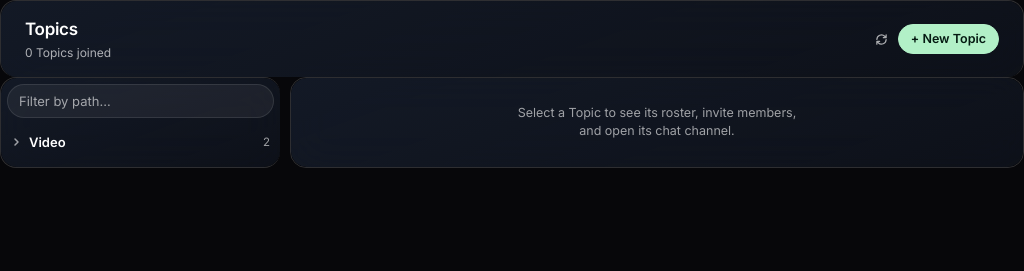
Test case: QURATOR-143 W1 (W2 sidebar form) — the lazy ranker is bounded and round-robin › the returned counts re-order the rows most-popular-first, without ever displaying a count in the list
Click the button with class "root-header": point(47, 142) [7,124,274,161]
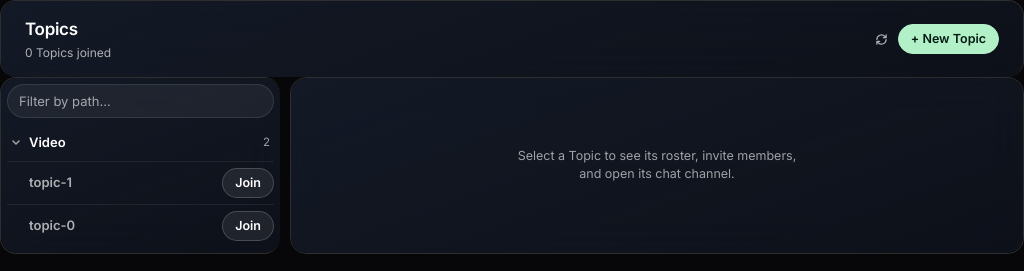
Check: the text "topic-1" is shown, box [29,174,72,190]
Check: the text "topic-0" is shown, box [29,218,75,234]
